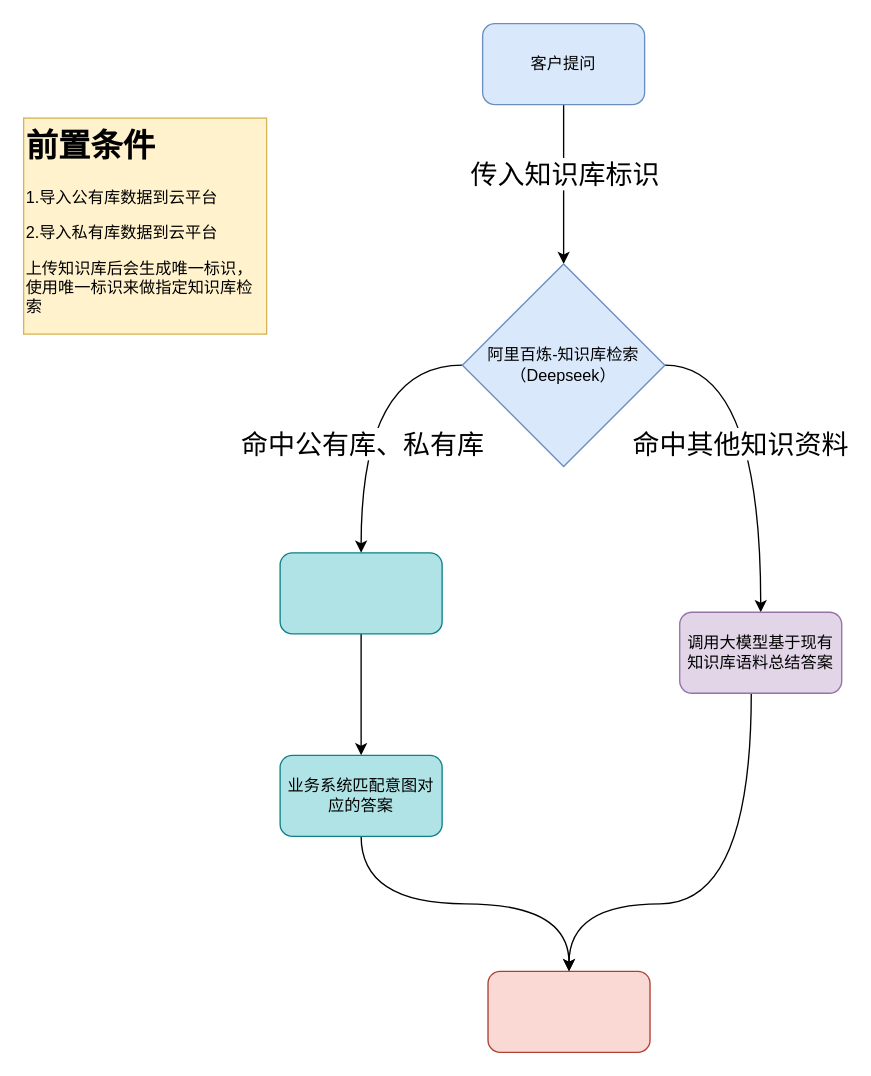
This 871x1076 diagram has some shape labels left out. Here are the shapes that lost their labels. From the top down, the centre of each, then its label:
[360,592]: 返回意图
[568,1011]: 返回答案
